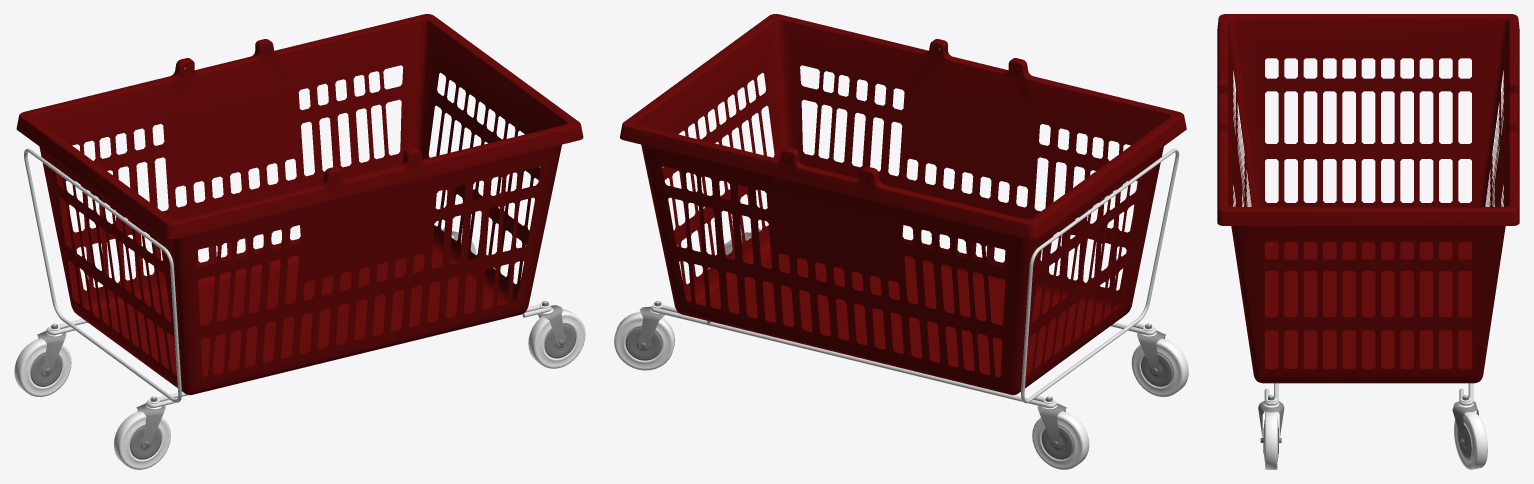
The model's file is basket.glb.
3 views of the same model, side by side, from view 1: azimuth 30°, elevation 25°; view 2: azimuth 150°, elevation 25°; view 3: azimuth 270°, elevation 25° (orthographic). The views are drawn at different scales.
Parts seen in each view (by area): view 1: PVC Plastic Basket, Cube.3857, Cylinder.002, Cylinder.023, Cylinder.016, Cylinder.011, Cylinder.297, Cylinder.018, Cylinder.001, Cylinder.022; view 2: PVC Plastic Basket, Cube.3857, Cube.3858, Cylinder.005, Cylinder.002, Cylinder.023, Cylinder.003, Cylinder.297, Cylinder.018, Cylinder.001, Cylinder.022; view 3: PVC Plastic Basket, Cylinder.005, Cylinder.016, Cube.3857, Cylinder.004, Cylinder.015.
Part boxes in pixels (bbox=[...]): PVC Plastic Basket: bbox=[16, 14, 583, 395]; Cube.3857: bbox=[24, 148, 181, 402]; Cylinder.002: bbox=[14, 338, 71, 397]; Cylinder.023: bbox=[114, 411, 170, 469]; Cylinder.016: bbox=[528, 309, 585, 368]; Cylinder.011: bbox=[544, 324, 576, 358]; Cylinder.297: bbox=[30, 353, 62, 386]; Cylinder.018: bbox=[130, 426, 161, 459]; Cylinder.001: bbox=[37, 330, 66, 375]; Cylinder.022: bbox=[136, 403, 165, 447]; PVC Plastic Basket: bbox=[620, 14, 1186, 395]; Cube.3857: bbox=[1021, 148, 1179, 403]; Cube.3858: bbox=[651, 305, 1056, 408]; Cylinder.005: bbox=[614, 312, 674, 370]; Cylinder.002: bbox=[1032, 411, 1089, 469]; Cylinder.023: bbox=[1131, 338, 1188, 396]; Cylinder.003: bbox=[625, 327, 661, 360]; Cylinder.297: bbox=[1041, 426, 1073, 459]; Cylinder.018: bbox=[1141, 353, 1172, 386]; Cylinder.001: bbox=[1037, 403, 1066, 447]; Cylinder.022: bbox=[1137, 330, 1165, 375]; PVC Plastic Basket: bbox=[1217, 14, 1519, 383]; Cylinder.005: bbox=[1454, 411, 1487, 469]; Cylinder.016: bbox=[1264, 411, 1277, 469]; Cube.3857: bbox=[1233, 101, 1503, 206]; Cylinder.004: bbox=[1452, 401, 1478, 446]; Cylinder.015: bbox=[1258, 401, 1284, 437].
Bounding box in the file's own units: 0.5638 × 0.3185 × 0.3233.
6 materials, 1 textured.
